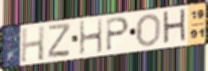H: (19, 25, 46, 64), (162, 7, 188, 47), (78, 17, 104, 57)
O: (136, 12, 162, 48)
P: (105, 16, 130, 52)
Z: (47, 21, 72, 59)
